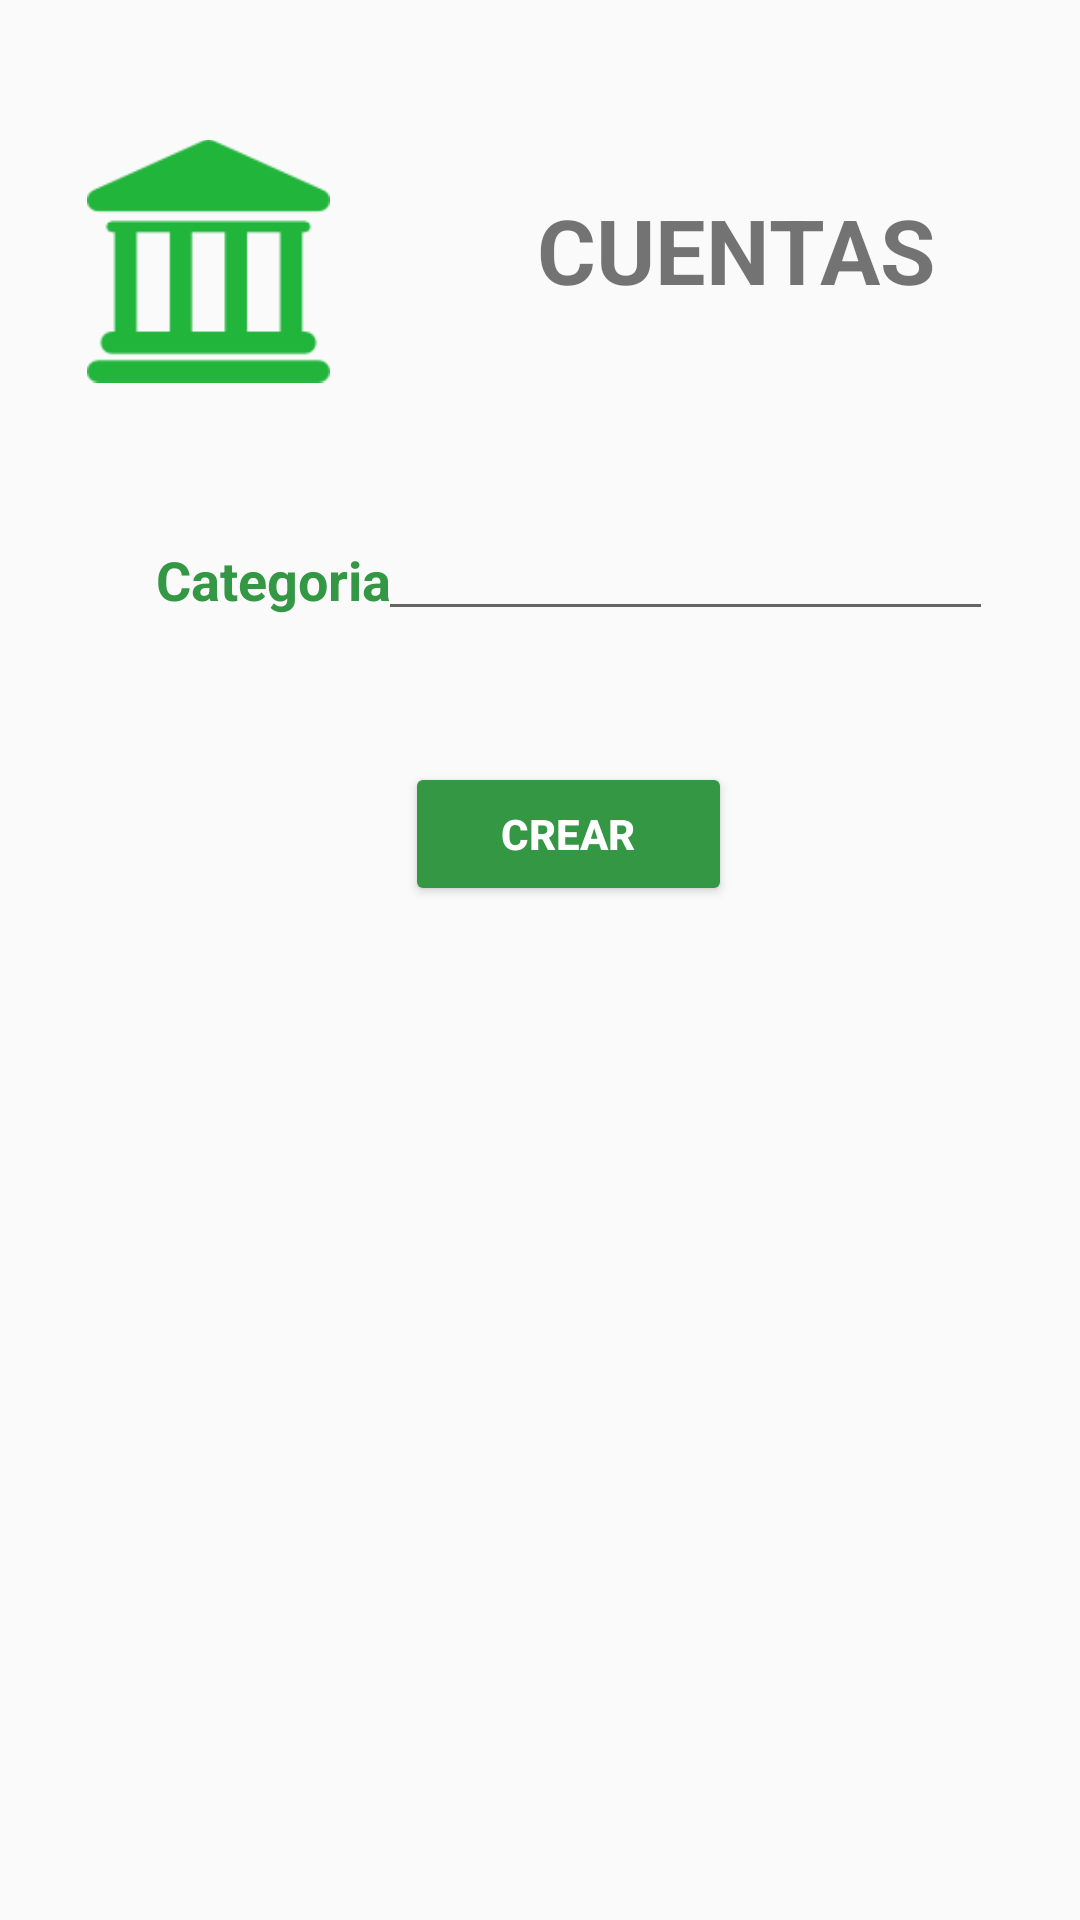

Named icons in this screenshot (1080px×1920px) and their centers, point (x, y):
bancou: point (208, 261)
